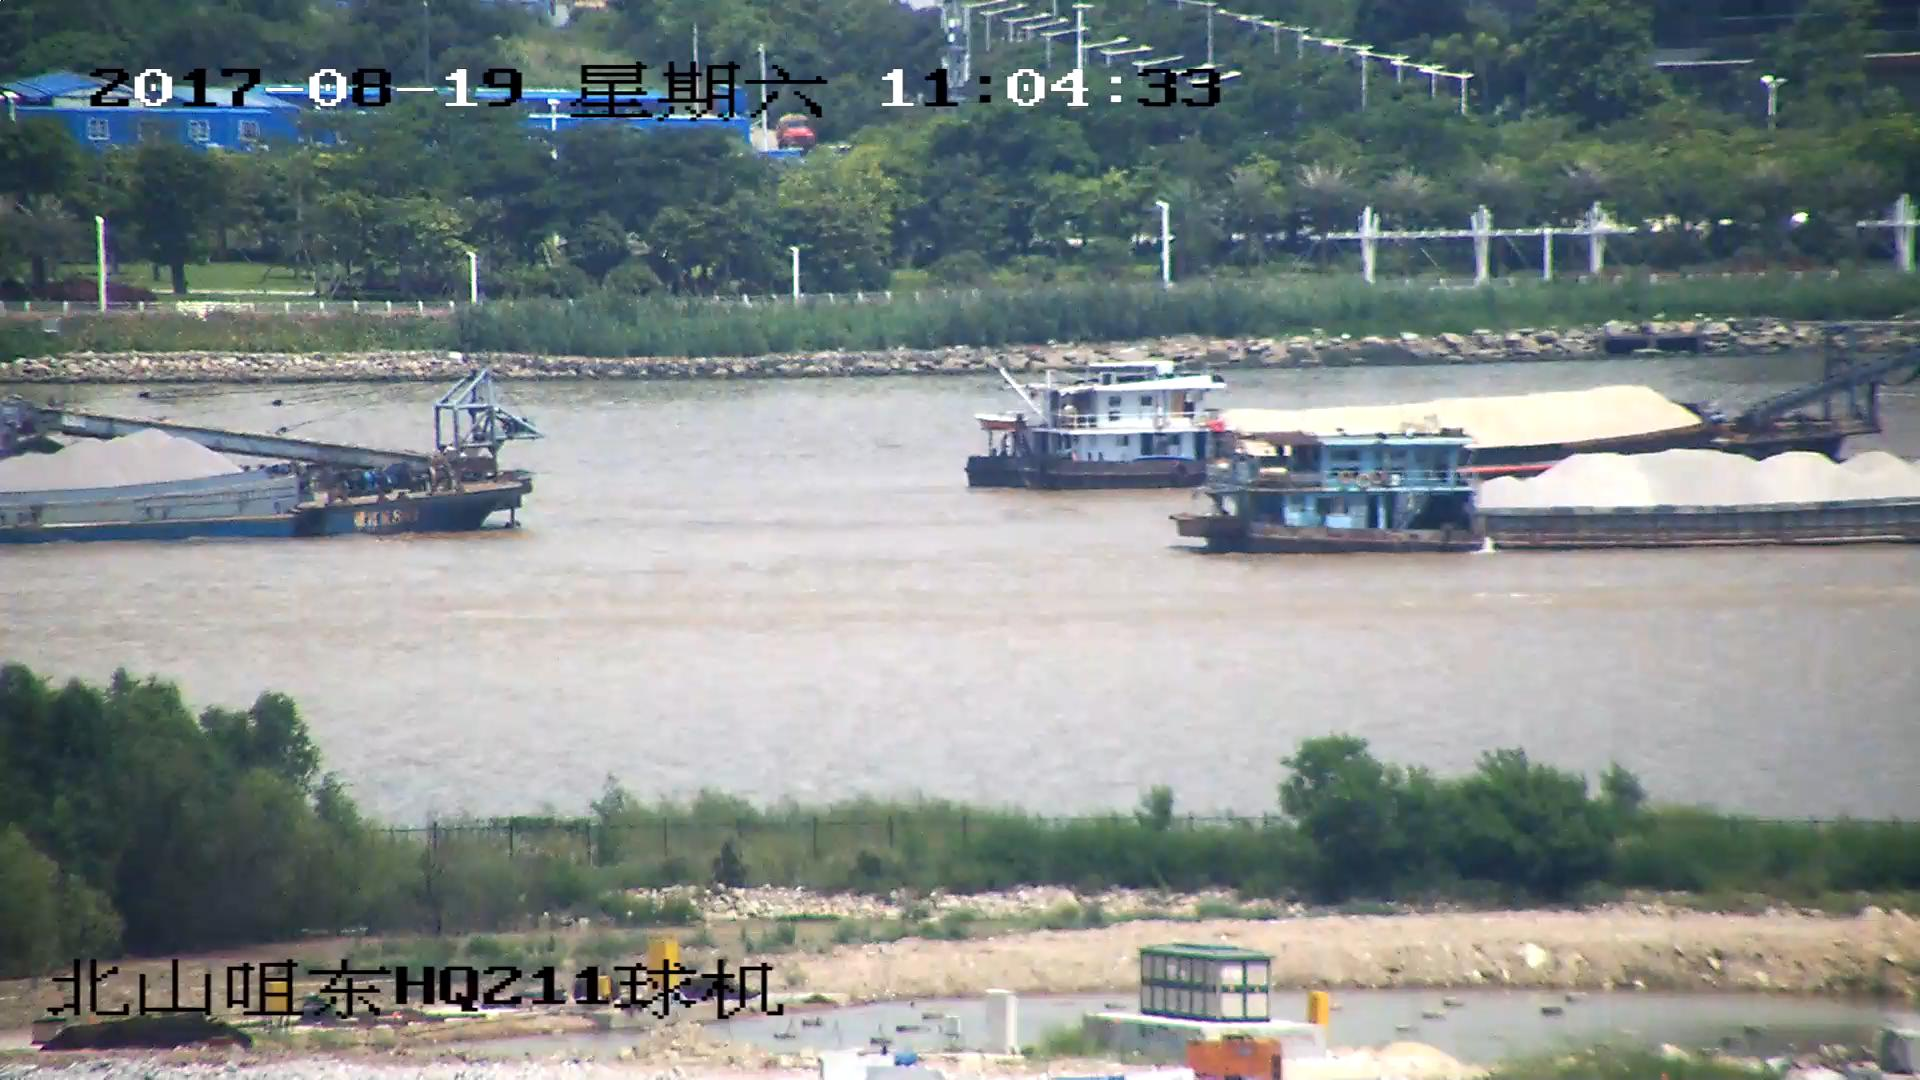ore carrier: (961, 313, 1920, 489), (1, 364, 534, 549), (1185, 433, 1920, 552)
